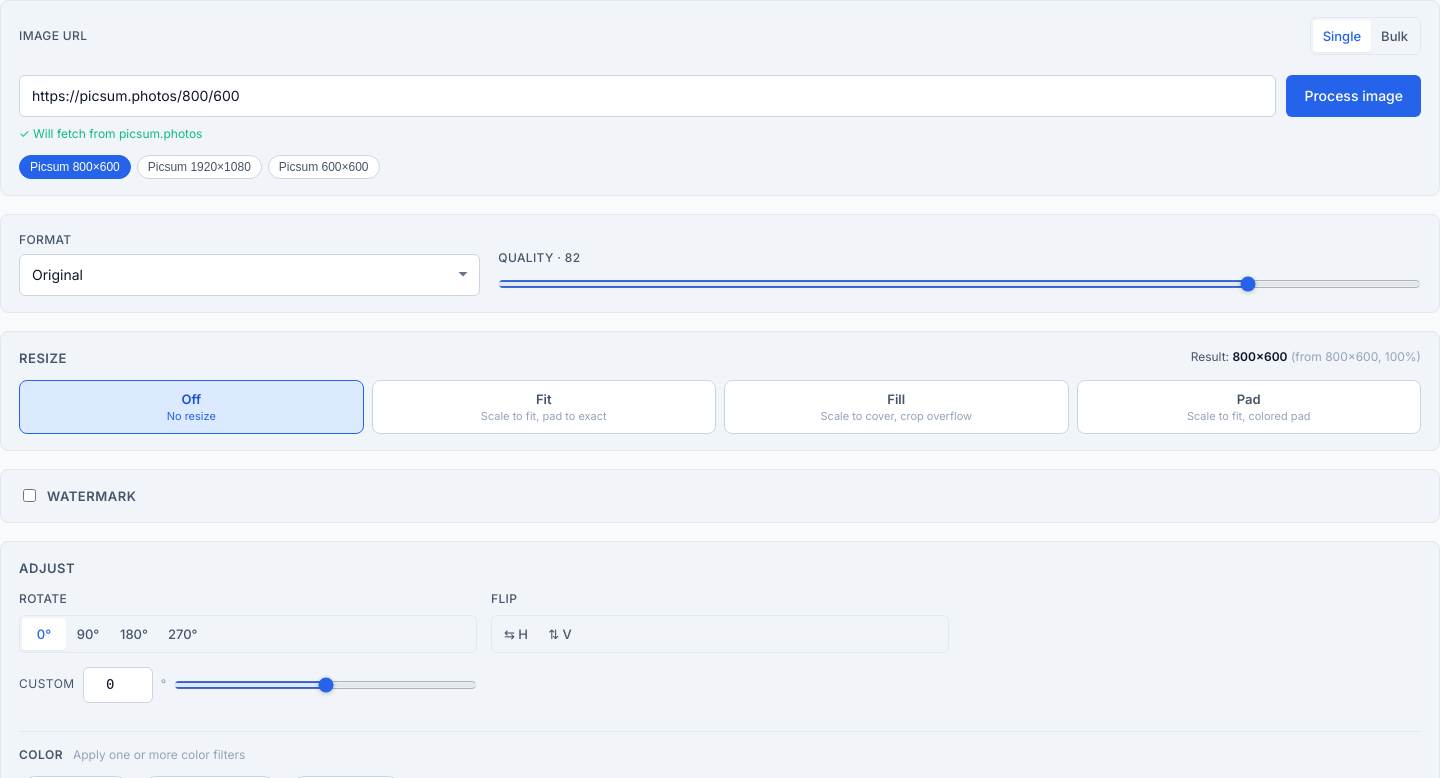
Test: JobForm › watermark text color picker is shown when watermark is enabled and kind=text
Click the checkbox labelled "Watermark": click(30, 496) [23,489,36,502]
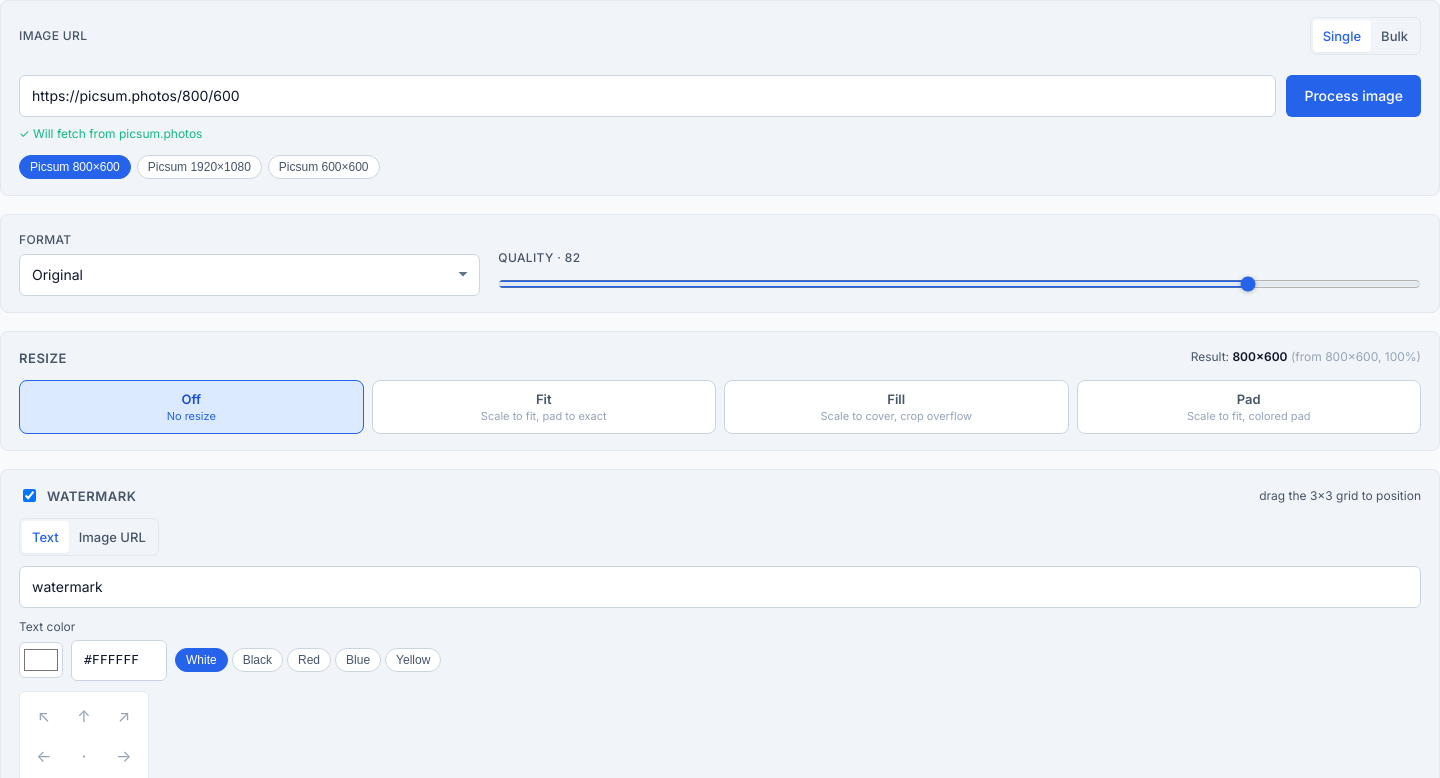
Expected: the colour field named "Watermark text color" is shown, [19,642,63,678]
Expected: the field named "Watermark text color hex" is shown, [71,640,167,680]
